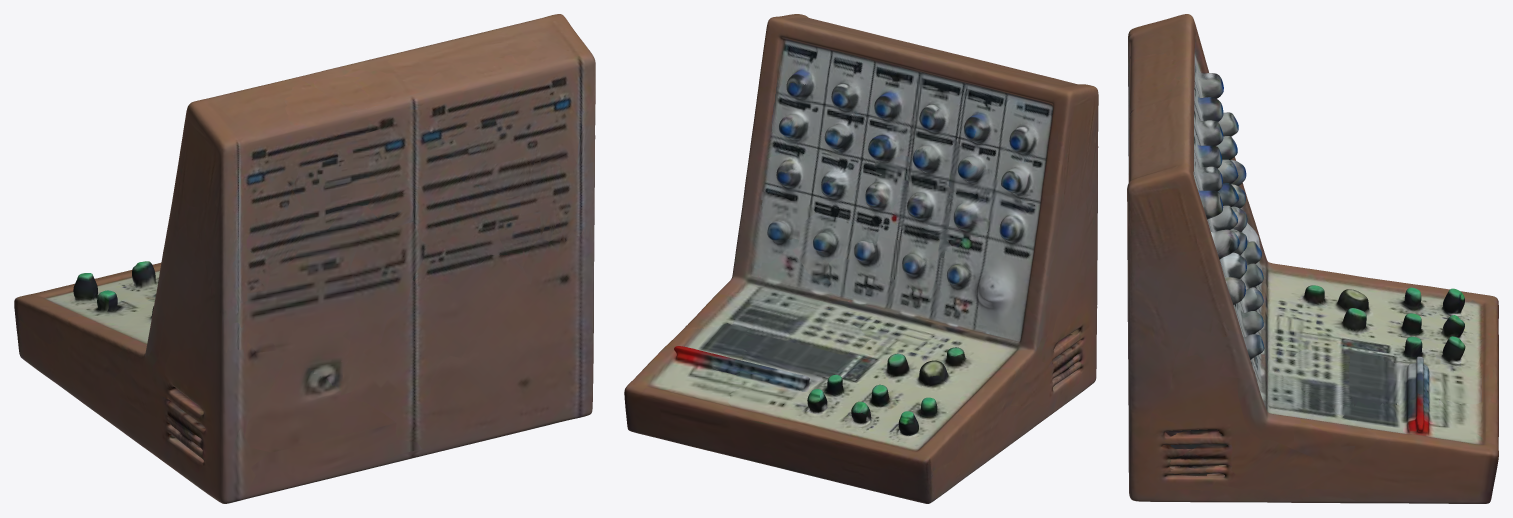
The model's file is vcs3-transformed-DWSiFsl3.glb.
3 renders of one model, left to right at view 1: azimuth 30°, elevation 25°; view 2: azimuth 150°, elevation 25°; view 3: azimuth 270°, elevation 25°, orthographic. The views are drawn at different scales.
Visible parts, largest first — view 1: tripo_node_b577391c-e939-4bdf-aac1-9d8b14b08420; view 2: tripo_node_b577391c-e939-4bdf-aac1-9d8b14b08420; view 3: tripo_node_b577391c-e939-4bdf-aac1-9d8b14b08420.
Boxes of the visible parts, left/top/right/bottom form: tripo_node_b577391c-e939-4bdf-aac1-9d8b14b08420: left=14, top=14, right=595, bottom=503; tripo_node_b577391c-e939-4bdf-aac1-9d8b14b08420: left=624, top=14, right=1098, bottom=503; tripo_node_b577391c-e939-4bdf-aac1-9d8b14b08420: left=1127, top=14, right=1498, bottom=503.
Size of the model in its own units: 0.9435 by 0.9364 by 0.9261.
Materials: 1 (1 with a texture image).
